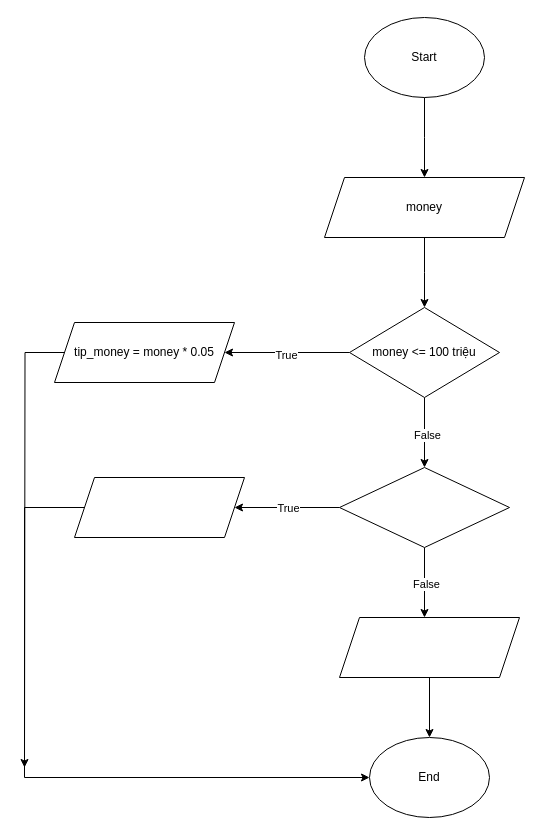
Some shapes in this 542 by 835 pixel diagram are drawn without their labels. The shapes that lost their labels are listed below. From the top down, each one's box as (x1, y1, x2, y2) in pixels, then its label:
(74, 476, 244, 538): tip_money = money * 0.1
(338, 466, 510, 548): money <= 300 triệu
(338, 616, 520, 678): tip_money = money * 0.2
